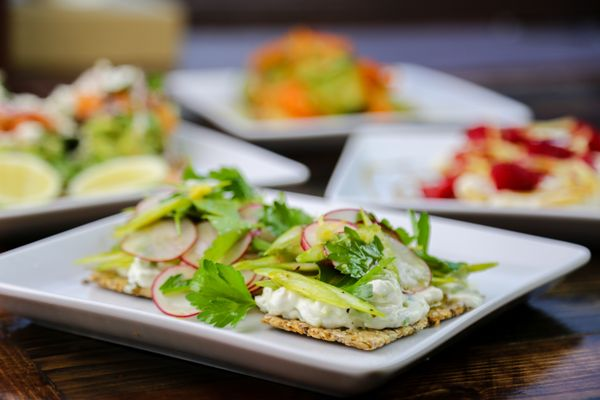soup: (233, 207, 498, 350)
sushi: (0, 0, 193, 93)
